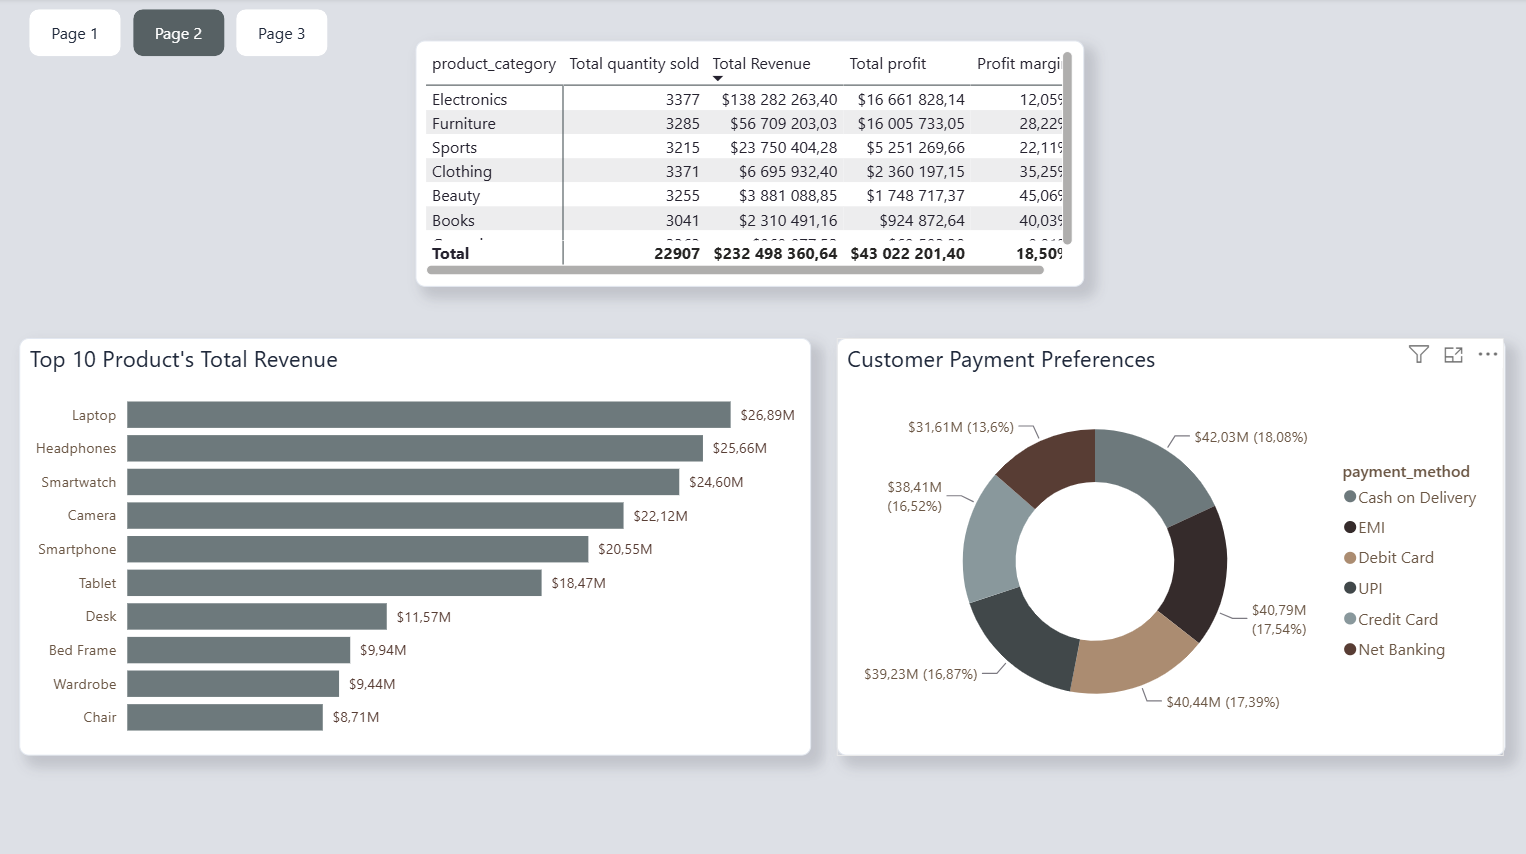

What the dashboard file says about the page in this screenshot:
{"tool":"powerbi","page":{"name":"Page 2","canvas":[1280,720],"ordinal":1},"visuals":[{"type":"pivotTable","fields":{"Rows":["public retail_sales_cleaned.product_category"],"Values":["_Measures.Total quantity sold","_Measures.Total Revenue","_Measures.Total profit","_Measures.Profit margin"]},"box":[351.3,35.7,555.7,204.5],"z":0},{"type":"clusteredBarChart","title":"Top 10 Product''s Total Revenue ","fields":{"Category":["public retail_sales_cleaned.product_name"],"Y":["_Measures.Total Revenue"]},"box":[22,282.7,658.7,347.2],"z":1000},{"type":"donutChart","title":"Customer Payment Preferences","fields":{"Y":["_Measures.Total Revenue"],"Category":["public retail_sales_cleaned.payment_method"]},"box":[701.2,282.7,555.7,347.2],"z":2000},{"type":"pageNavigator","box":[30.2,9.6,249.7,39.8],"z":2001}]}

Visuals, with their boxes on the page's 1280x720 design canvas (x1, y1, x2, y2). These are canvas units, not pixel positions in the 1526x854 screenshot, which may show the page scaled, cropped or inside an application window:
pivotTable - public retail_sales_cleaned.product_category x _Measures.Total quantity sold: [351,36,907,240]
"Top 10 Product''s Total Revenue " clusteredBarChart: [22,283,681,630]
"Customer Payment Preferences" donutChart: [701,283,1257,630]
pageNavigator: [30,10,280,49]
